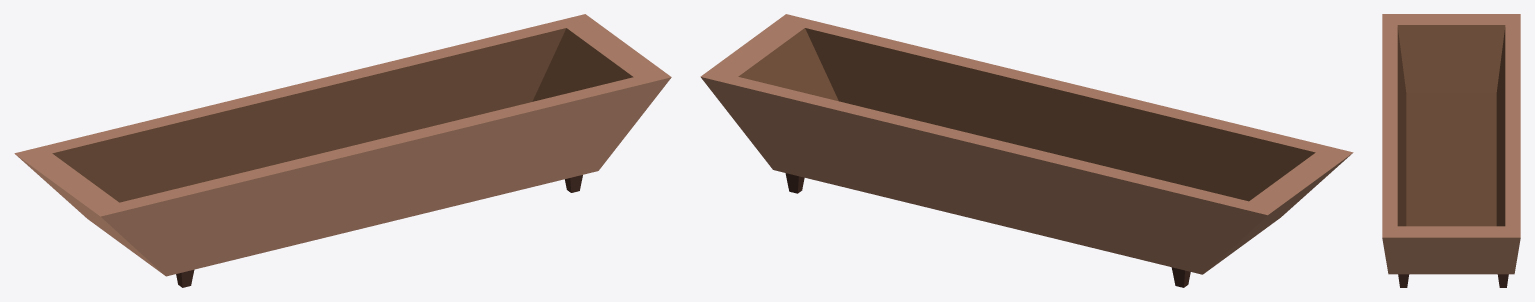
File: drinking_trough_empty.fbx
3 renders of one model, left to right at view 1: azimuth 30°, elevation 25°; view 2: azimuth 150°, elevation 25°; view 3: azimuth 270°, elevation 25°, orthographic. The views are drawn at different scales.
Visible parts, largest first — view 1: drinking_trough_empty; view 2: drinking_trough_empty; view 3: drinking_trough_empty.
Boxes of the visible parts, <box> form: drinking_trough_empty: <box>14,14,671,287</box>; drinking_trough_empty: <box>700,14,1353,287</box>; drinking_trough_empty: <box>1382,14,1520,287</box>.
Bounding box in the file's own units: 905 × 155 × 237.
